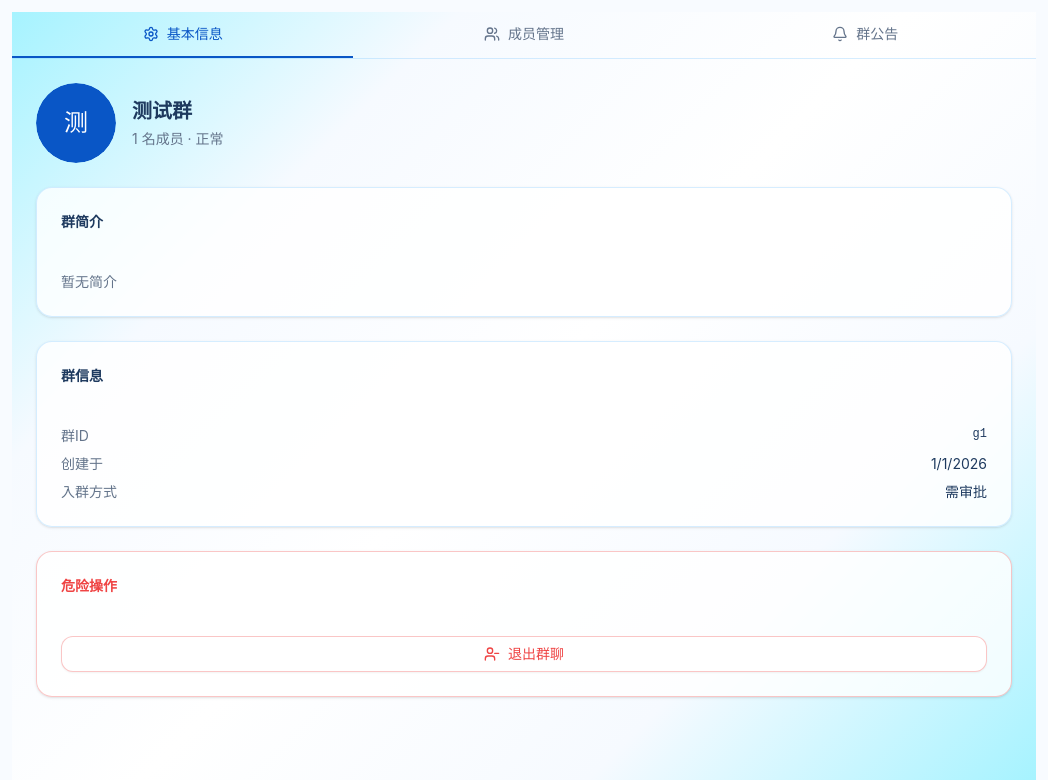
Test: GroupManagement 成员列表三态（loadMembers → membersError） › 请求失败：显示"加载成员失败：<原因>" + 重试按钮，绝不是"暂无成员"
Click the button "成员管理". click: (524, 35)
box: [353,12,695,58]
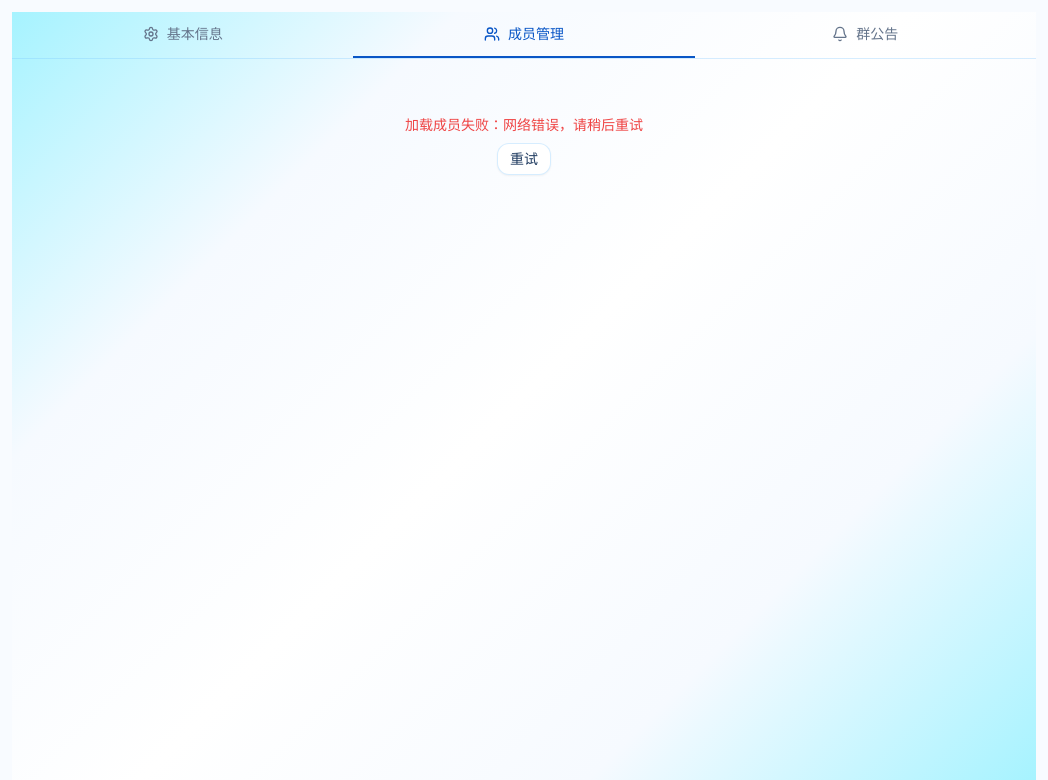
Expected: the text "加载成员失败：网络错误，请稍后重试" is shown, [405,115,643,135]
Expected: the button "重试" is shown, [497,143,551,175]
